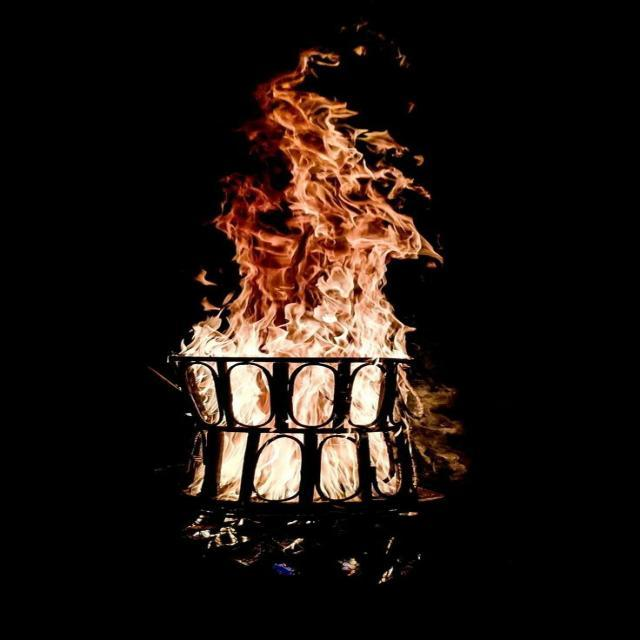Fire: (150, 26, 474, 336)
